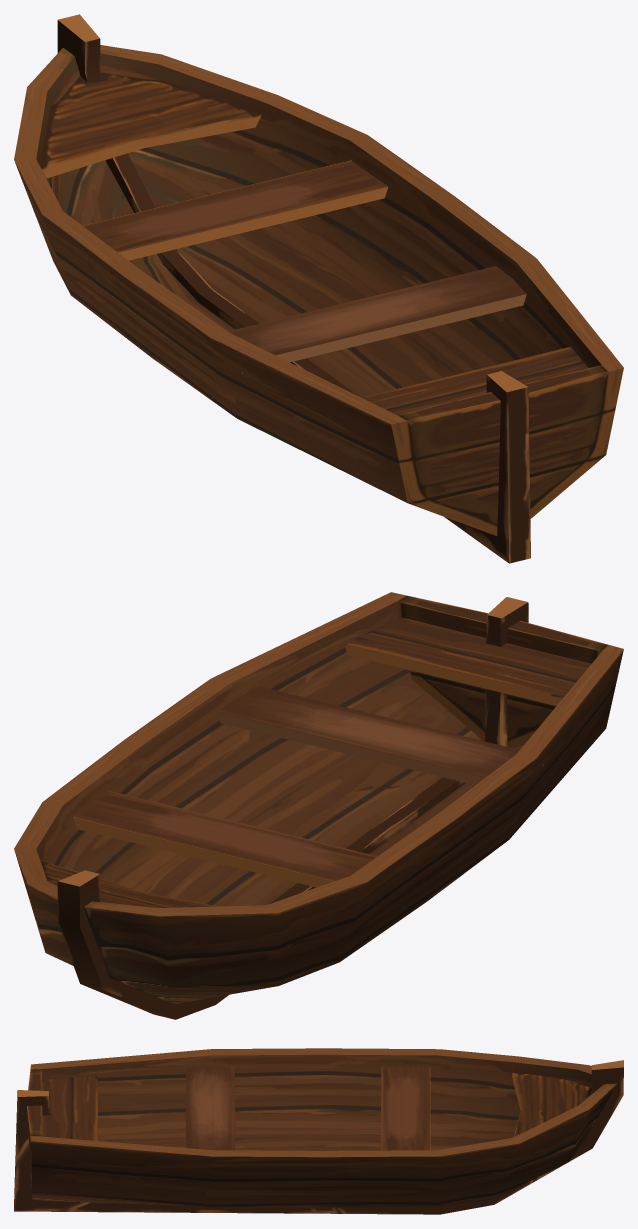
Rendered from boat.fbx.
The picture shows the model from 3 angles, top to bottom: view 1: azimuth 30°, elevation 25°; view 2: azimuth 150°, elevation 25°; view 3: azimuth 270°, elevation 25°; orthographic projection. The views are drawn at different scales.
Parts seen in each view (by area): view 1: boat; view 2: boat; view 3: boat.
Part boxes in pixels (x1,y1,x2,y2): boat: (14, 14, 623, 563); boat: (14, 592, 623, 1019); boat: (14, 1048, 623, 1214).
Size of the model in its own units: 139 by 87.37 by 328.
